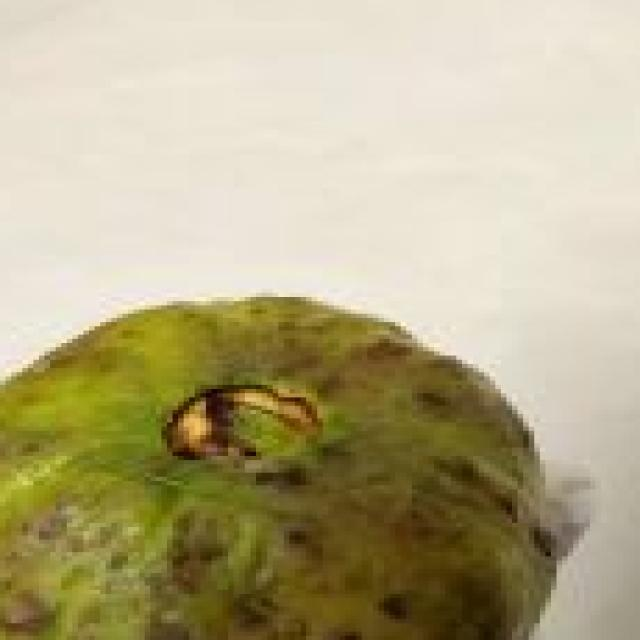Bad_Guava 0 day: (0, 297, 551, 640)
